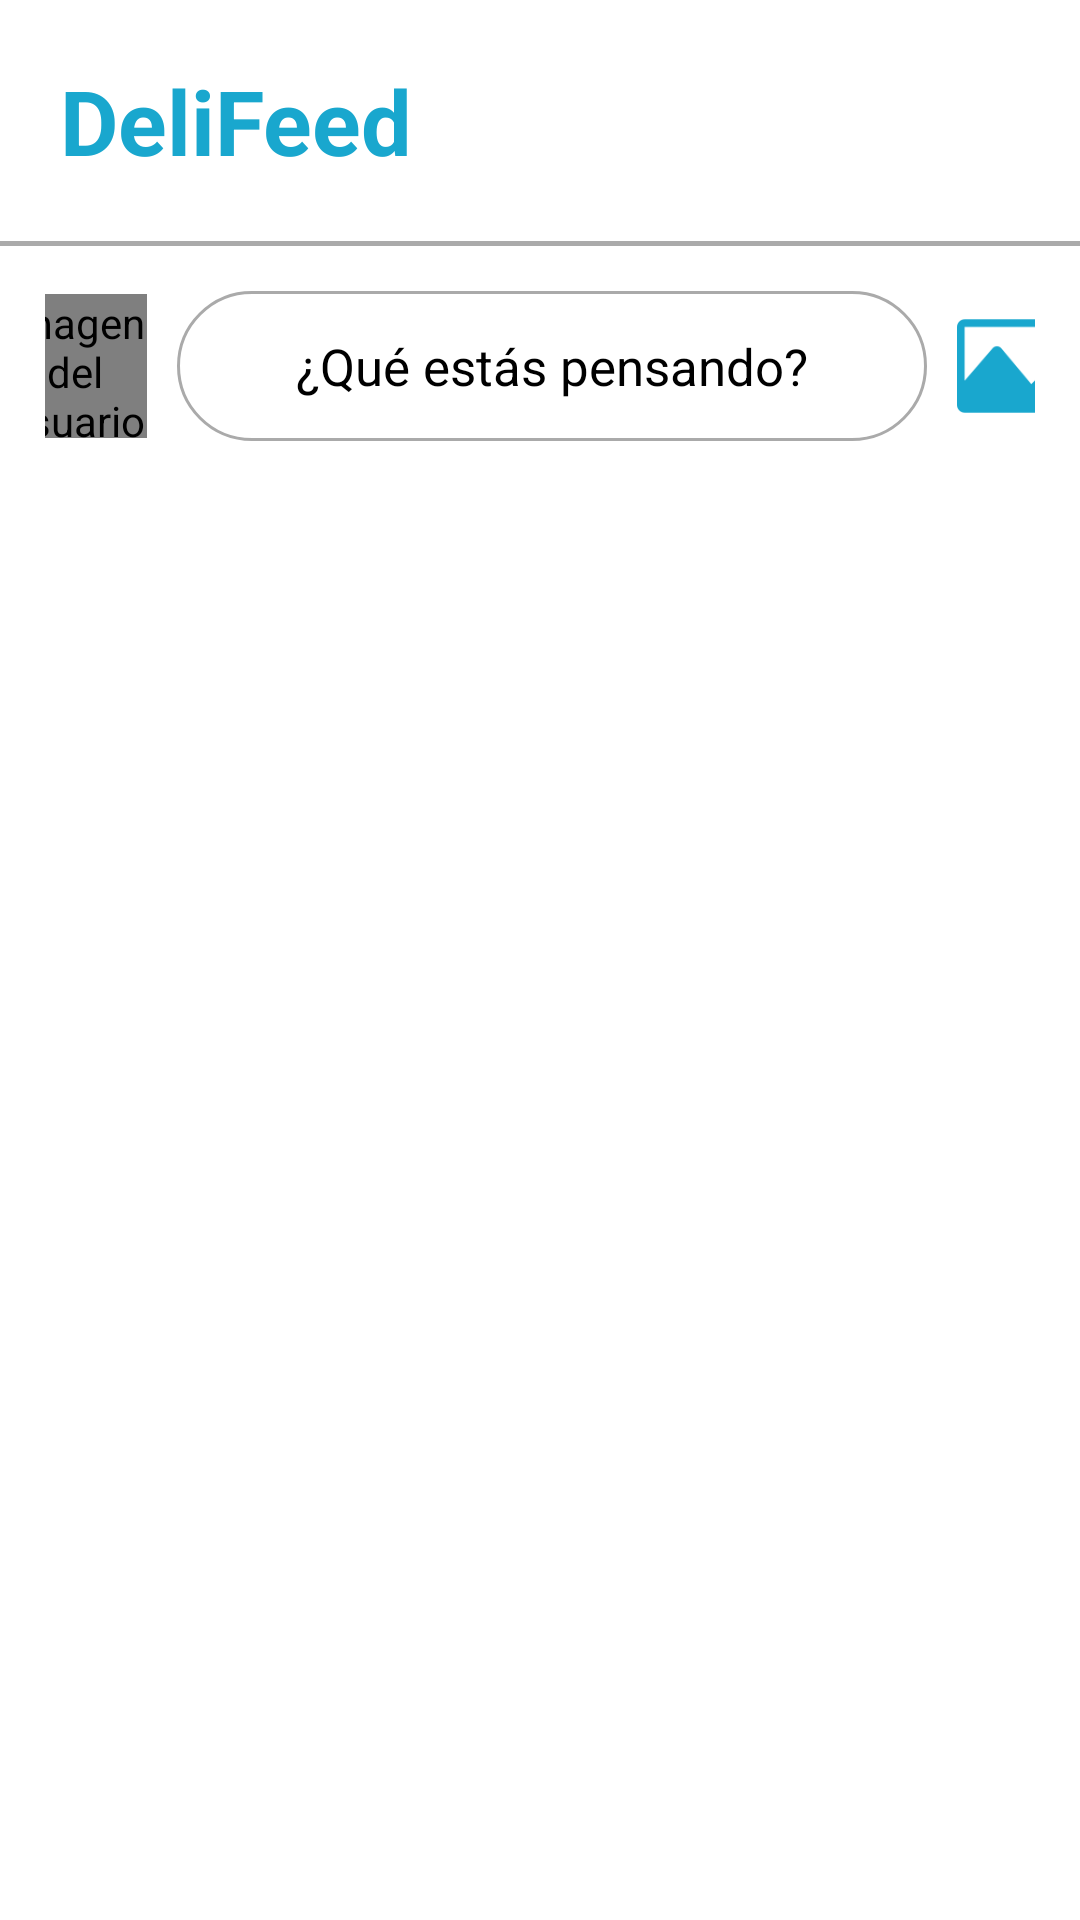

Named icons in this screenshot (1080px×1920px) and their centers, [x,y]:
foto: [996,366]
